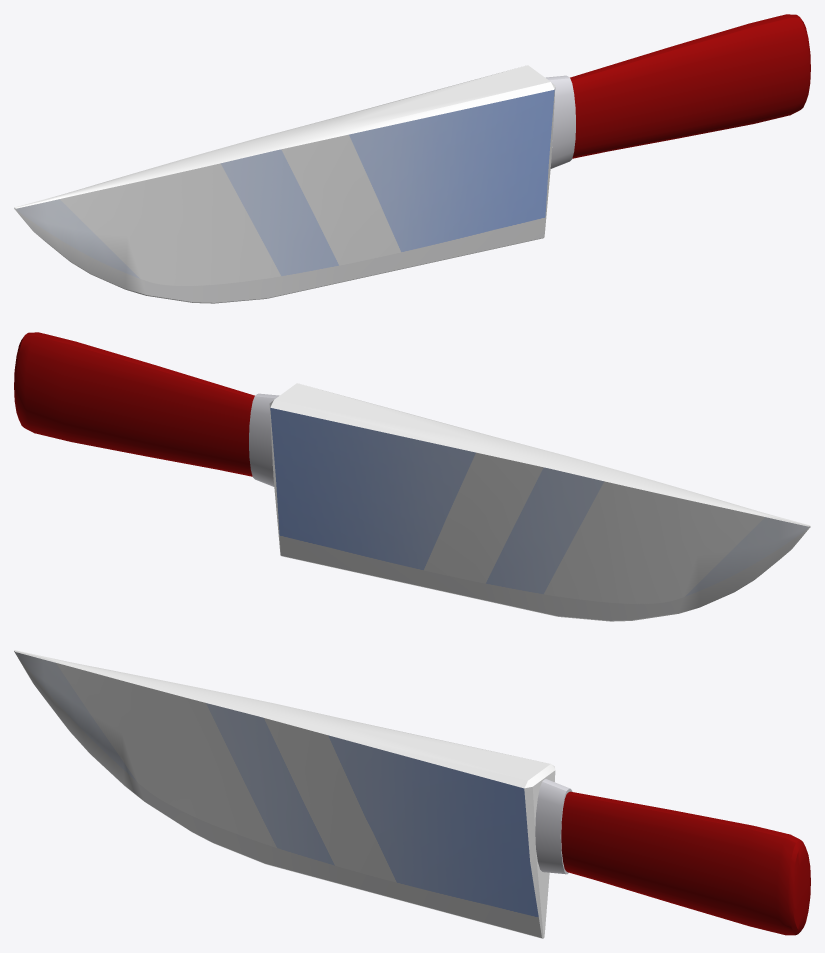
File: Knife.fbx
3 views of the same model, one above another, from view 1: azimuth 30°, elevation 25°; view 2: azimuth 150°, elevation 25°; view 3: azimuth 330°, elevation 25° (orthographic).
Parts seen in each view (by area): view 1: Cube.001, Cube; view 2: Cube.001, Cube; view 3: Cube.001, Cube.
Boxes of the visible parts, x1,y1,x2,y2 form: Cube.001: (14, 65, 555, 303); Cube: (545, 14, 810, 168); Cube.001: (269, 383, 810, 621); Cube: (14, 332, 279, 486); Cube.001: (14, 650, 555, 938); Cube: (535, 779, 810, 935).
Size of the model in its own units: 450 by 90.07 by 30.06.
Materials: 2 (1 with a texture image).
